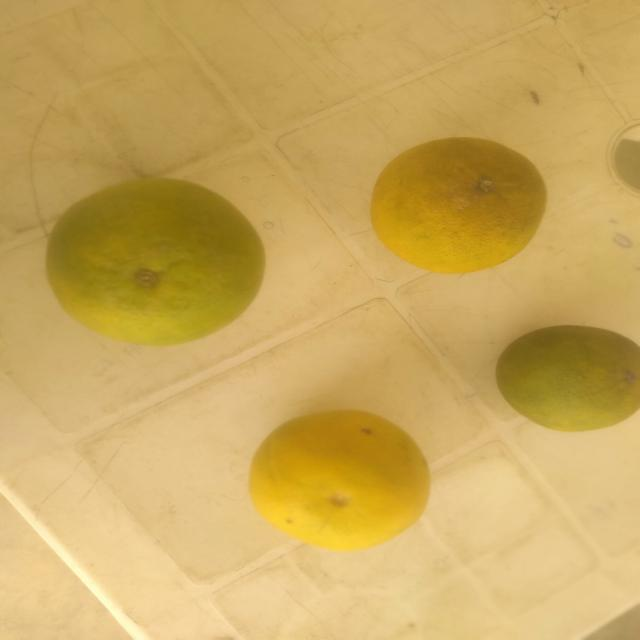Ripe orange: (343, 118, 562, 292), (240, 398, 444, 553)
Unripe: (47, 160, 269, 370), (470, 314, 640, 453)
